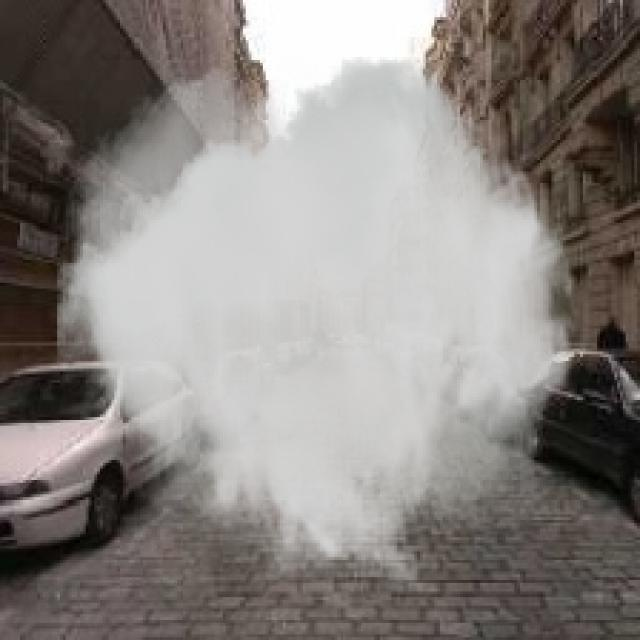Smoke: (57, 57, 580, 597)
